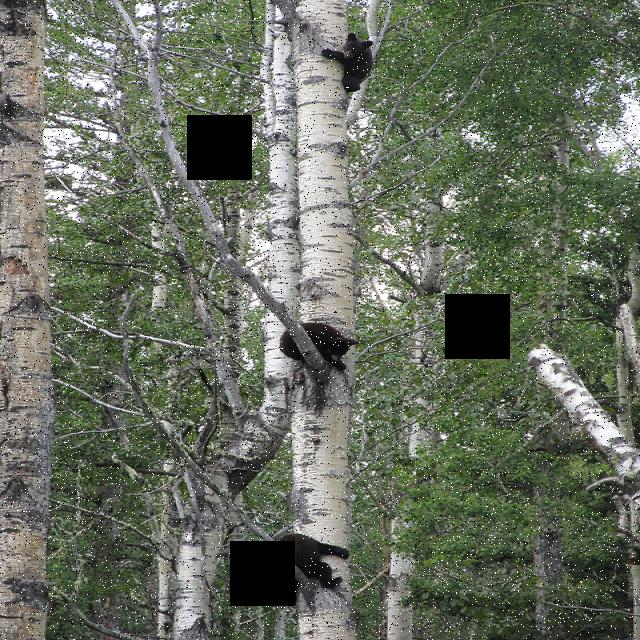Bear: (258, 519, 356, 601), (323, 20, 383, 94), (273, 316, 358, 368)
